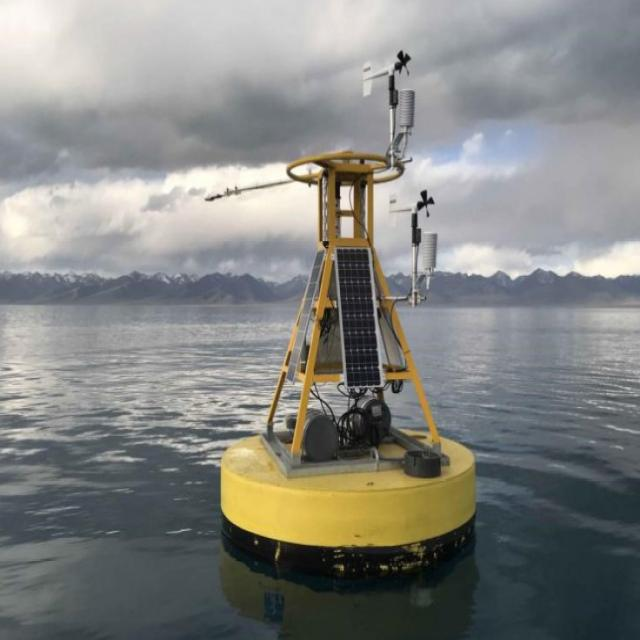buoy: (199, 44, 491, 569)
